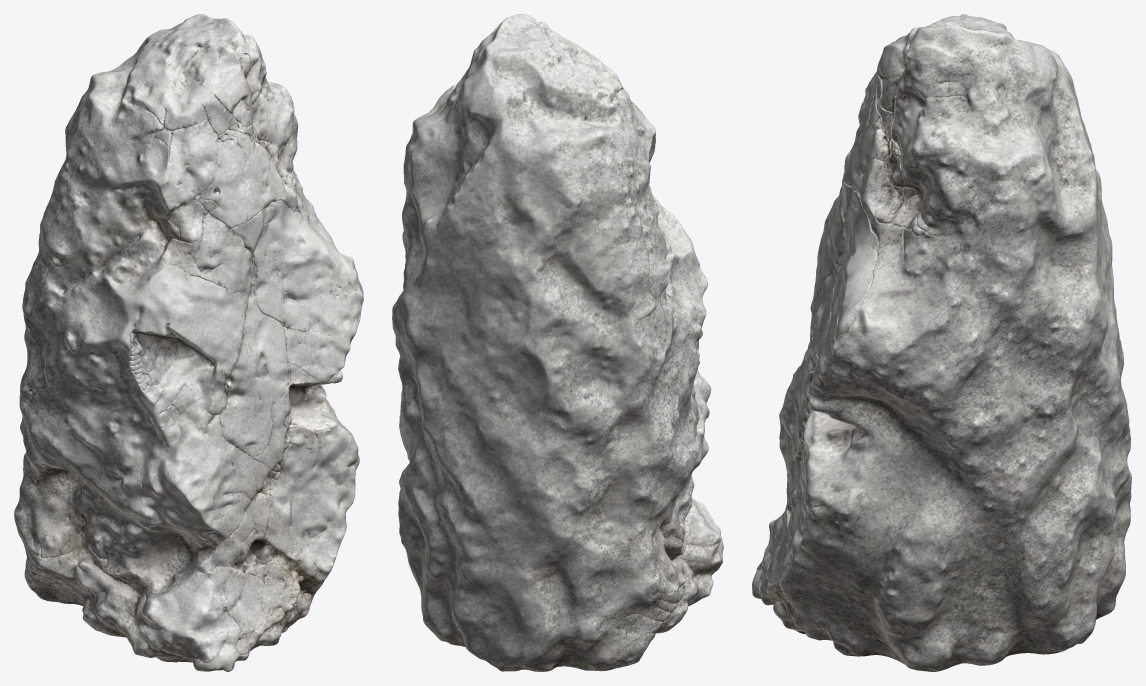
File: rock_carve.glb
3 views of the same model, side by side, from view 1: azimuth 30°, elevation 25°; view 2: azimuth 150°, elevation 25°; view 3: azimuth 270°, elevation 25° (orthographic). The views are drawn at different scales.
Parts seen in each view (by area): view 1: tripo_node_8e1a1576-2b2f-4a14-bc1e-33c5e645953c; view 2: tripo_node_8e1a1576-2b2f-4a14-bc1e-33c5e645953c; view 3: tripo_node_8e1a1576-2b2f-4a14-bc1e-33c5e645953c.
Part boxes in pixels (left/top/right/bottom): tripo_node_8e1a1576-2b2f-4a14-bc1e-33c5e645953c: left=14, top=14, right=363, bottom=671; tripo_node_8e1a1576-2b2f-4a14-bc1e-33c5e645953c: left=392, top=14, right=723, bottom=671; tripo_node_8e1a1576-2b2f-4a14-bc1e-33c5e645953c: left=752, top=14, right=1131, bottom=671.
Bounding box in the file's own units: 0.5141 × 0.9813 × 0.5442.
1 material, 1 textured.
